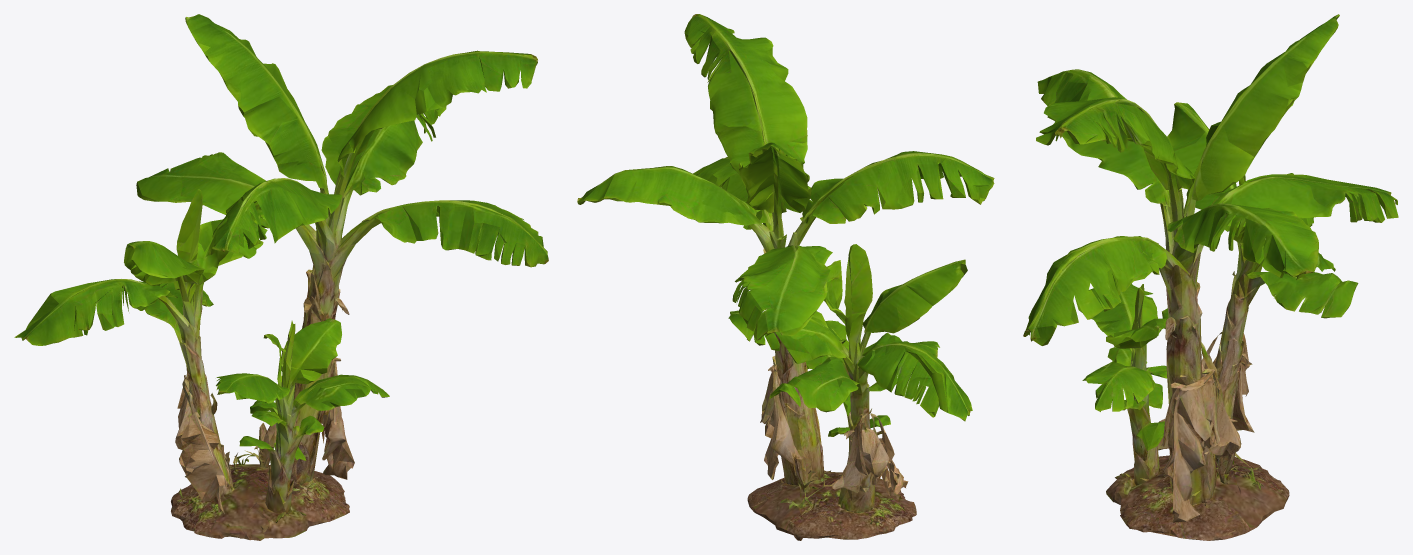
File: w3banana2.glb
3 views of the same model, side by side, from view 1: azimuth 30°, elevation 25°; view 2: azimuth 150°, elevation 25°; view 3: azimuth 270°, elevation 25° (orthographic). The views are drawn at different scales.
Parts seen in each view (by area): view 1: output_unwrapped; view 2: output_unwrapped; view 3: output_unwrapped.
Boxes of the visible parts, x1,y1,x2,y2 form: output_unwrapped: (14, 14, 548, 540); output_unwrapped: (577, 14, 994, 540); output_unwrapped: (1023, 14, 1398, 540).
Bounding box in the file's own units: 3.55 × 3.6 × 2.5.
Materials: 1 (1 with a texture image).
